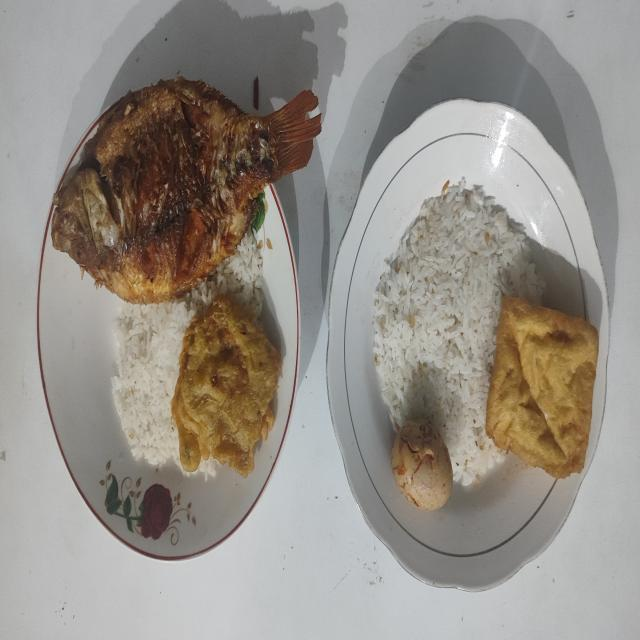ikan_mujair: (52, 78, 321, 303)
nasi_putih: (374, 180, 546, 485), (111, 235, 262, 468)
tahu_goreng: (486, 297, 598, 478)
